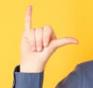clockwise: (21, 3, 81, 64)
